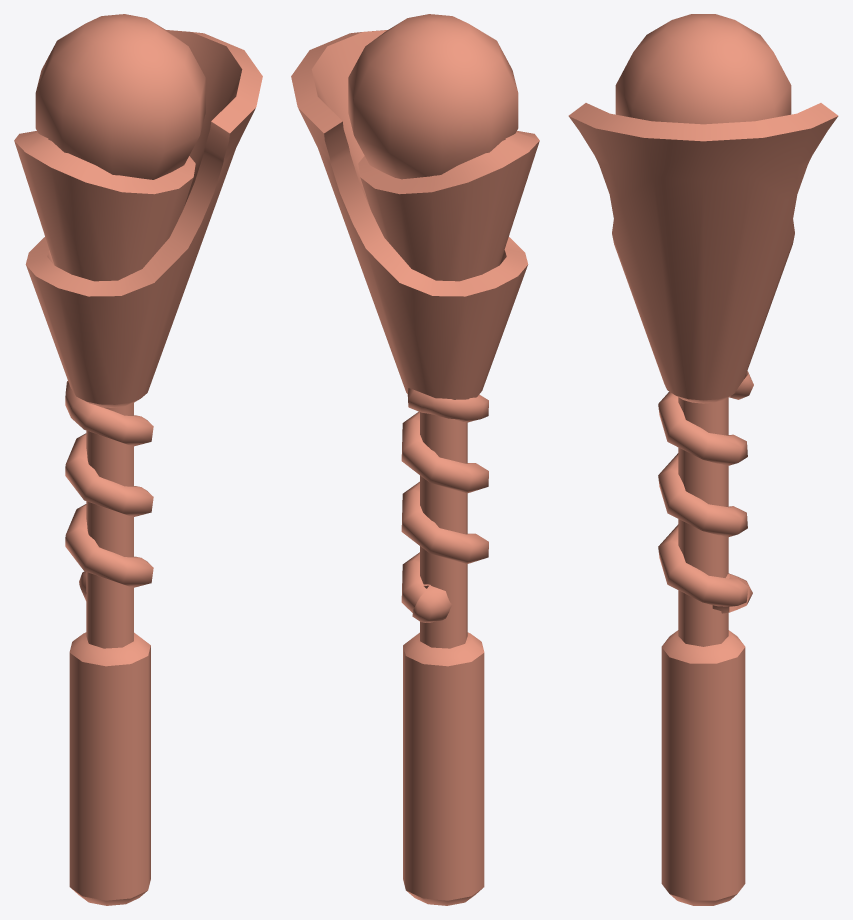
The model's file is torch.fbx.
3 views of the same model, side by side, from view 1: azimuth 30°, elevation 25°; view 2: azimuth 150°, elevation 25°; view 3: azimuth 270°, elevation 25° (orthographic).
Visible parts, largest first — view 1: top_sphere_low.001; view 2: top_sphere_low.001; view 3: top_sphere_low.001.
Boxes of the visible parts, box(x1,y1,x2,y2) form: top_sphere_low.001: box(14, 14, 262, 905); top_sphere_low.001: box(291, 14, 539, 905); top_sphere_low.001: box(568, 14, 838, 905).
Bounding box in the file's own units: 60.04 × 227 × 63.47.
